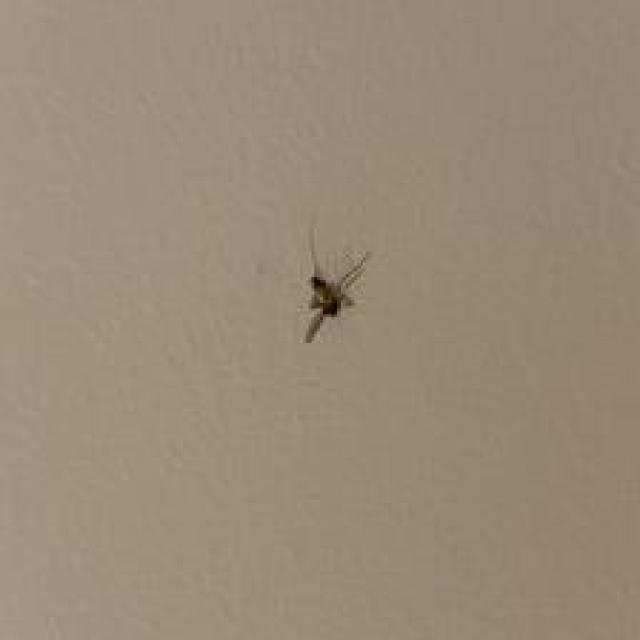Culex: (297, 224, 372, 344)
